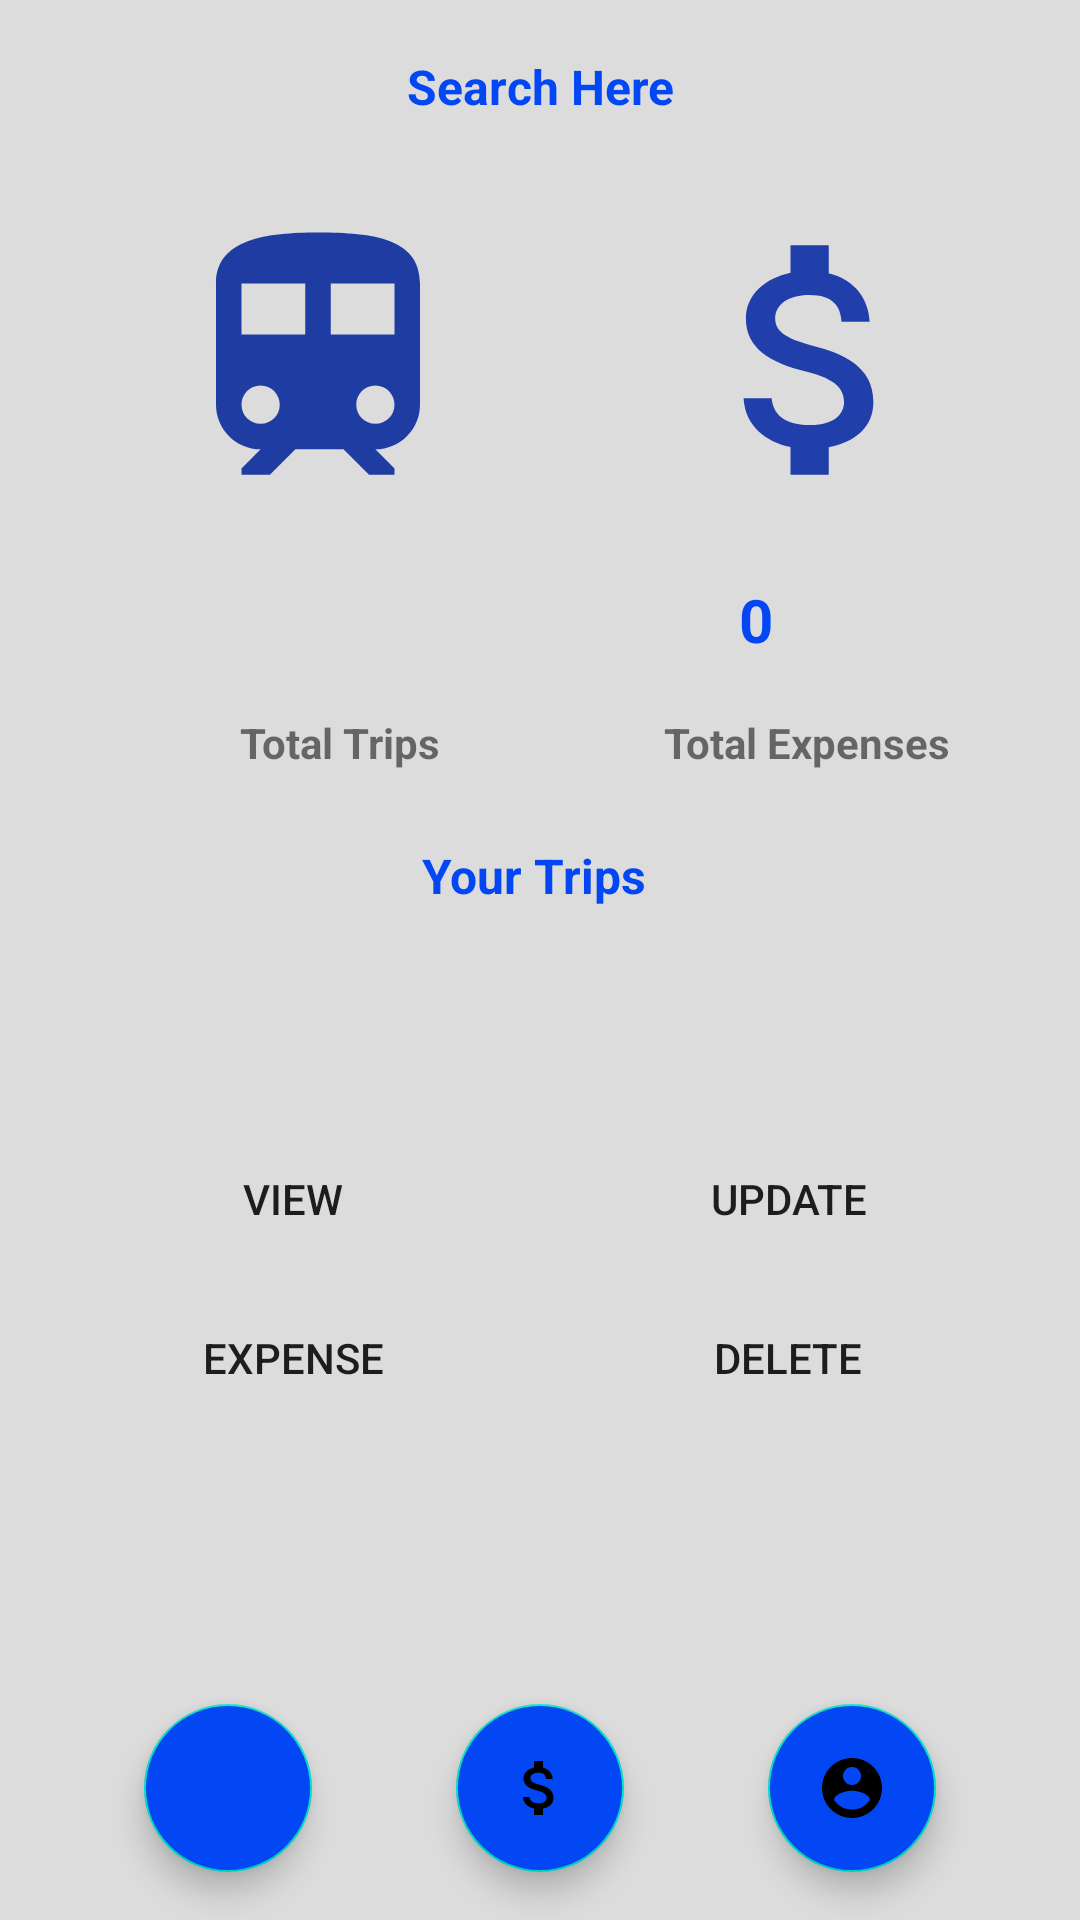

Named icons in this screenshot (1080*1920) and their bounding boxes, (x1, y1, x2, y2):
account circle: (768, 1704, 936, 1872)
train: (216, 232, 420, 475)
